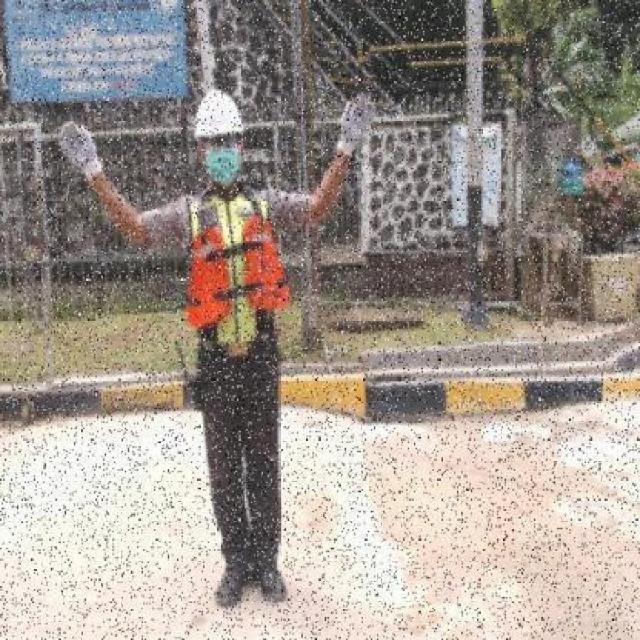Boots: (214, 556, 251, 609), (252, 560, 288, 605)
Gloves: (55, 118, 107, 185), (335, 89, 374, 162)
Helmet: (193, 89, 244, 137)
Mask: (203, 149, 242, 189)
Protective Glasses: (204, 137, 241, 151)
Vest: (182, 213, 292, 329)
